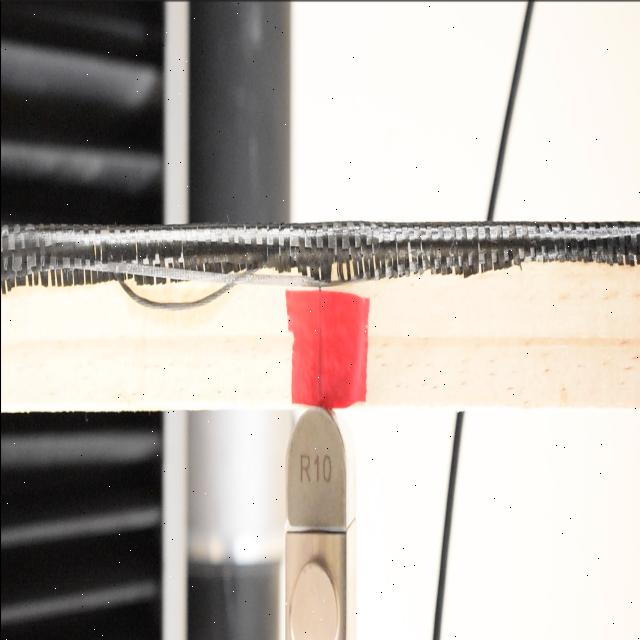wood: (2, 225, 640, 406)
